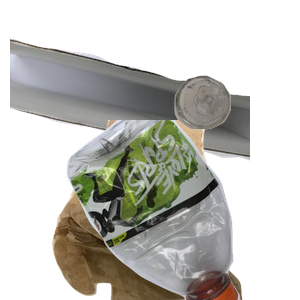cardboard: (10, 35, 250, 188)
glass: (172, 73, 300, 195)
plastic: (64, 120, 300, 300)
trash: (50, 120, 285, 300)
